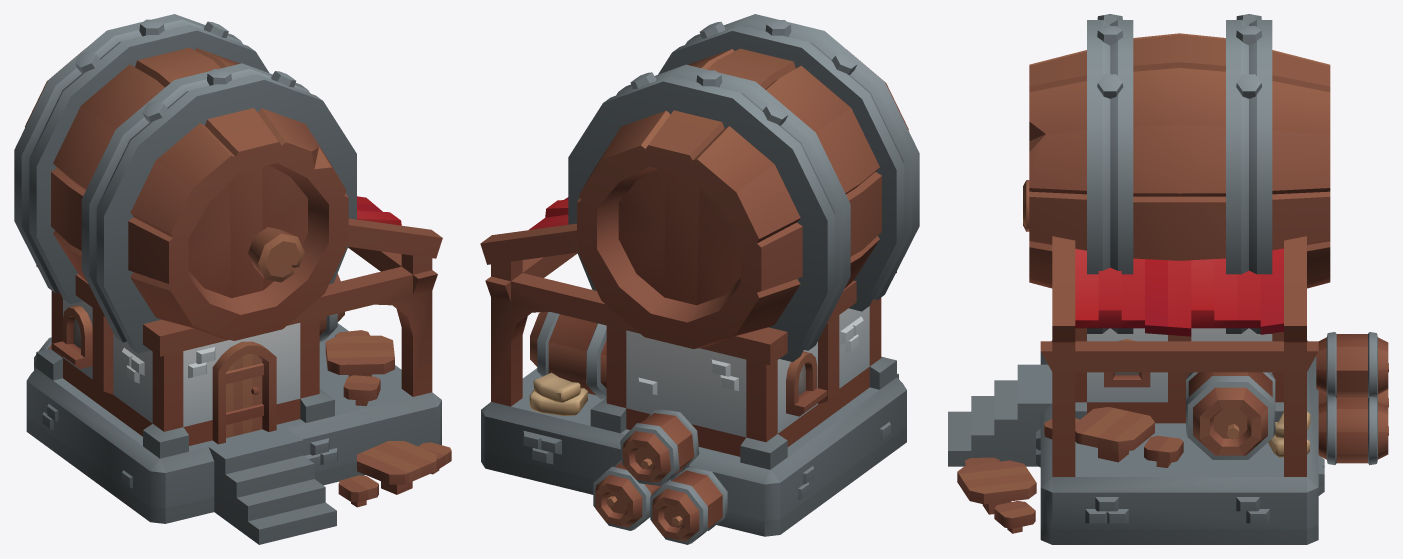
File: H_tavern_red.glb
3 views of the same model, side by side, from view 1: azimuth 30°, elevation 25°; view 2: azimuth 150°, elevation 25°; view 3: azimuth 270°, elevation 25° (orthographic). The views are drawn at different scales.
Visible parts, largest first — view 1: building_tavern_red; view 2: building_tavern_red; view 3: building_tavern_red.
Boxes of the visible parts, x1,y1,x2,y2 form: building_tavern_red: (14,14,451,544); building_tavern_red: (480,14,919,544); building_tavern_red: (948,14,1388,544).
Size of the model in its own units: 1.17 by 1.4 by 1.33.
